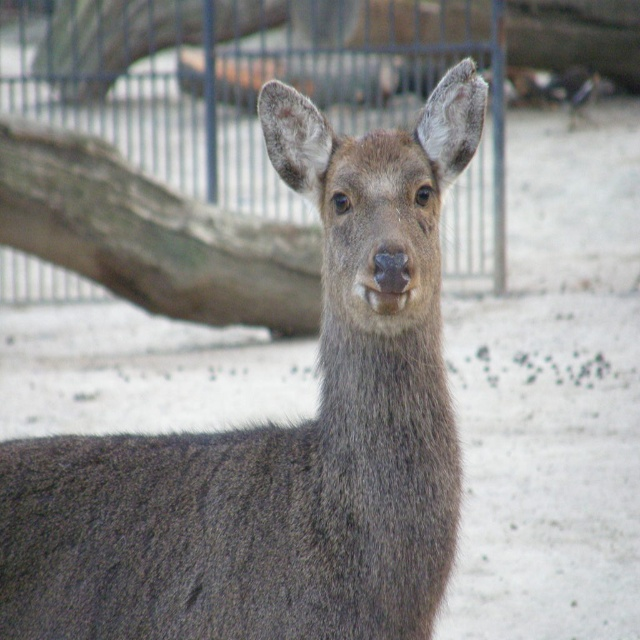Deer: (0, 54, 488, 639)
